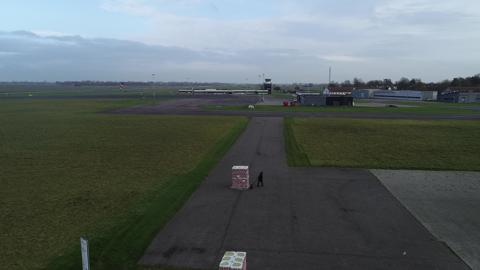RockwoolPallet: (230, 164, 250, 187)
